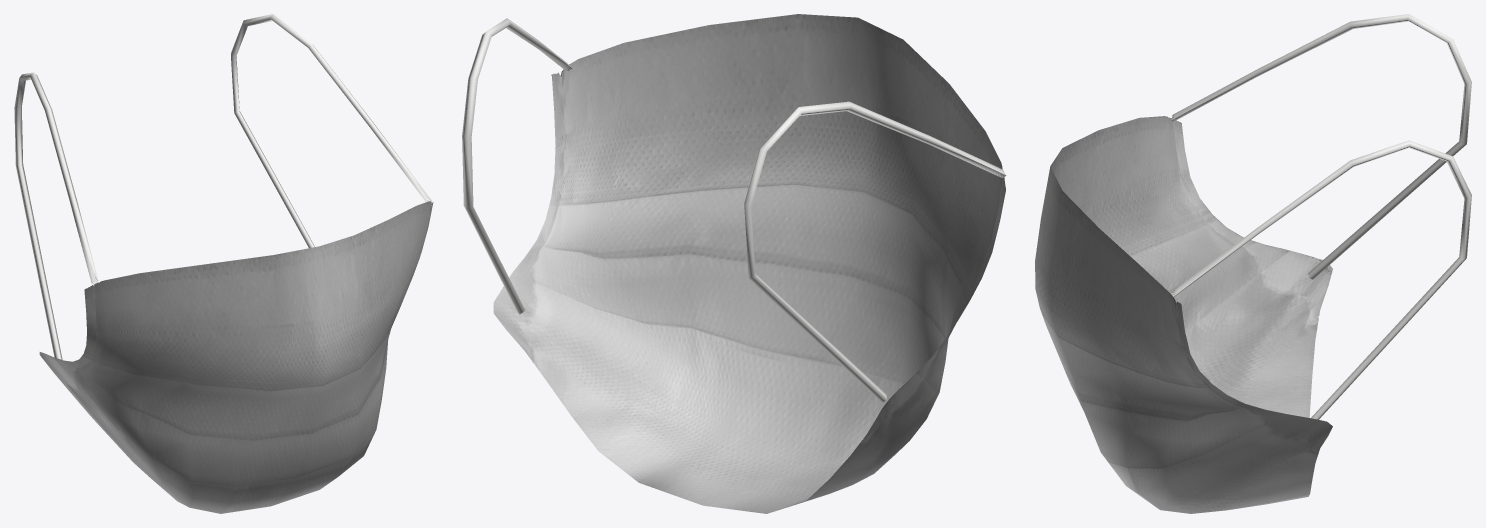
File: medmask.fbx
The picture shows the model from 3 angles, left to right: view 1: azimuth 30°, elevation 25°; view 2: azimuth 150°, elevation 25°; view 3: azimuth 270°, elevation 25°; orthographic projection. The views are drawn at different scales.
Visible parts, largest first — view 1: medmask, cord1, cord; view 2: medmask, cord1, cord; view 3: medmask, cord1, cord.
Part boxes in pixels (x1,y1,x2,y2): medmask: (39,201,433,513); cord1: (14,72,98,359); cord: (231,14,431,248); medmask: (493,14,1005,513); cord1: (744,101,1006,402); cord: (462,18,572,314); medmask: (1035,116,1332,513); cord1: (1171,14,1471,279); cord: (1171,140,1471,419).
Size of the model in its own units: 10 by 10.53 by 10.01.
1 material, 1 textured.
